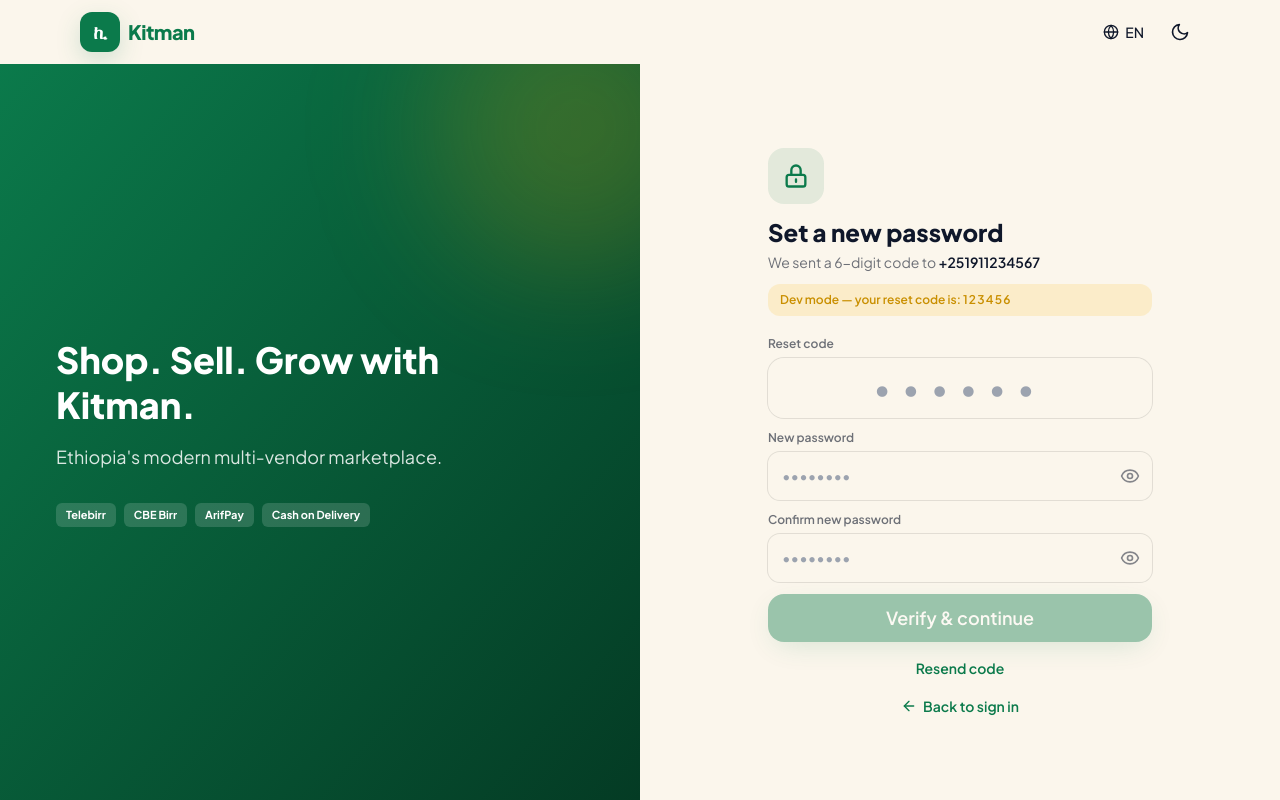
Test: ResetPassword › validates the new password before submitting
This screenshot has width=1280, height=800.
In the field with placeholder "••••••": (960, 388) [768, 358, 1152, 418], type "111111"
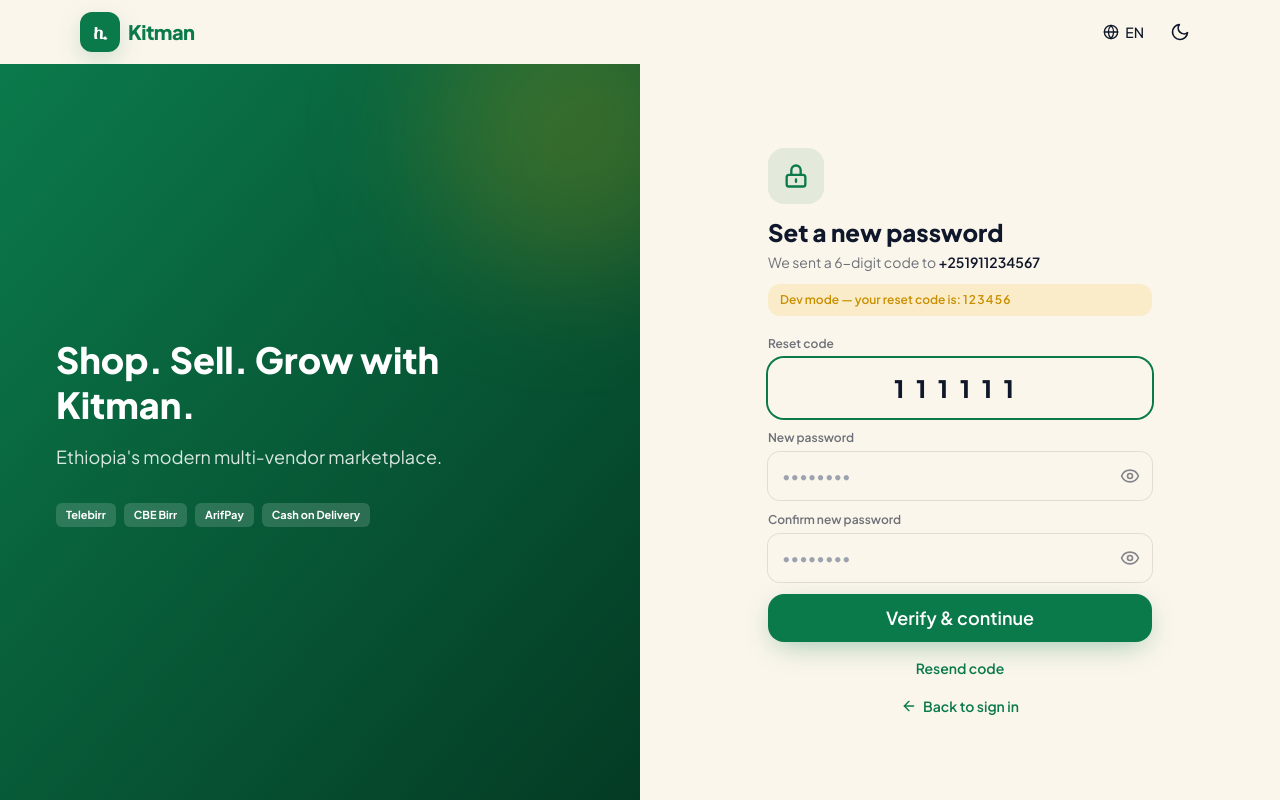
In the password field labelled "New password": (938, 476) [768, 452, 1108, 500], type "short"
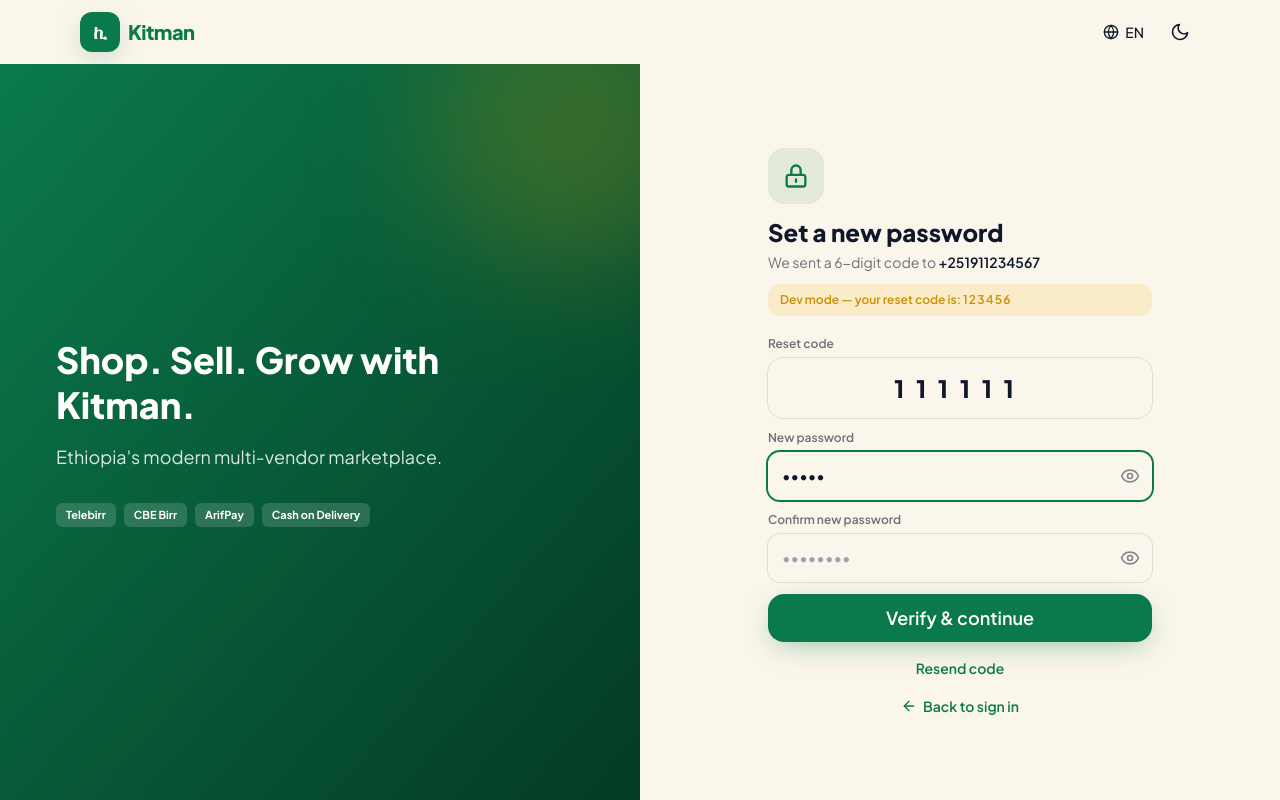
In the password field labelled "Confirm new password": (938, 558) [768, 534, 1108, 582], type "short"
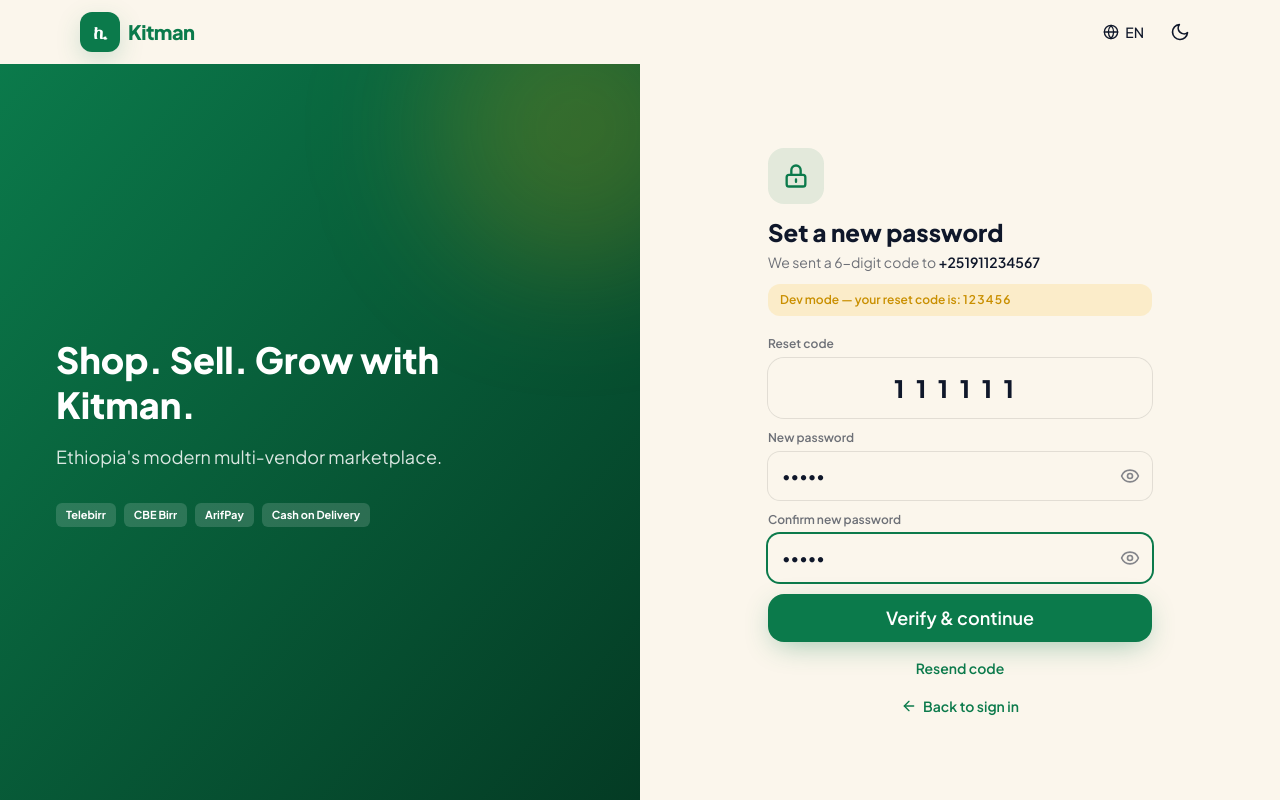
Click the button "Verify & continue": (960, 618) [768, 594, 1152, 642]
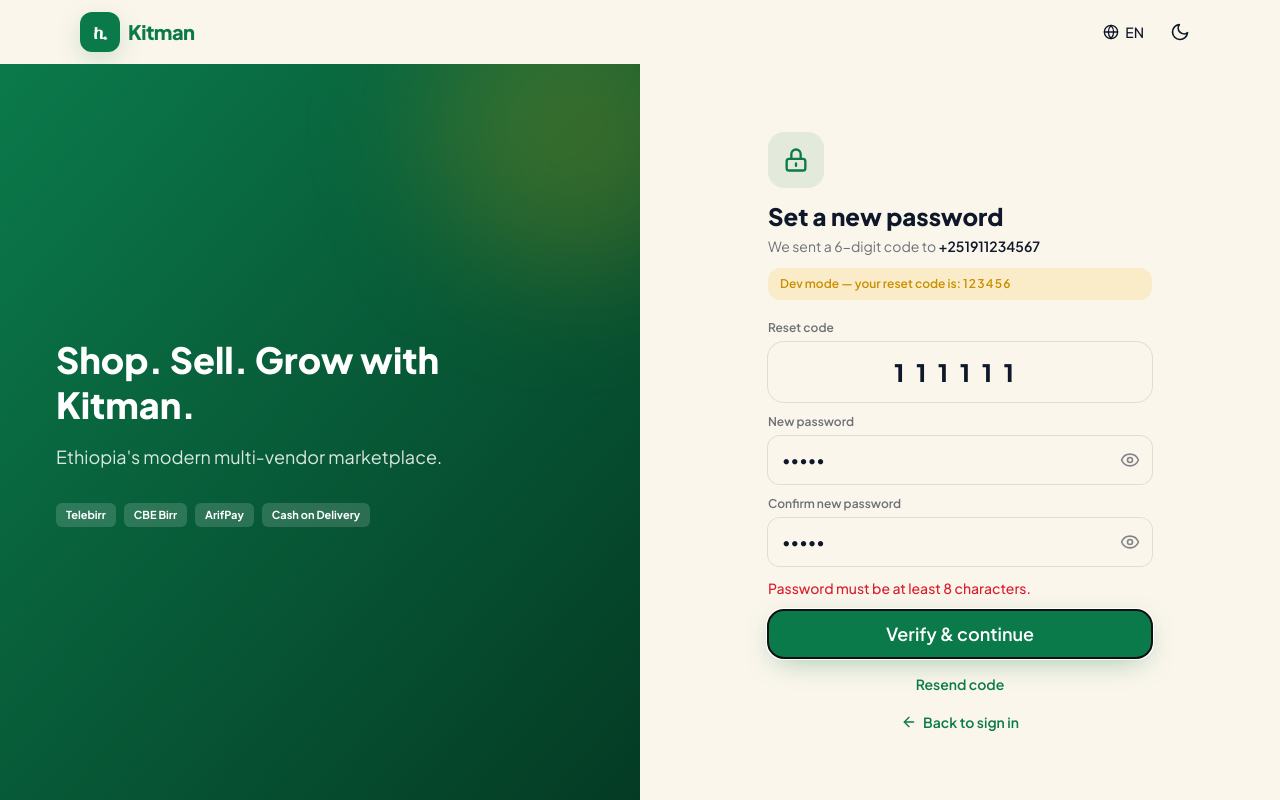
Expected: the text "Password must be at least 8 characters." is shown, [768, 579, 1031, 597]
